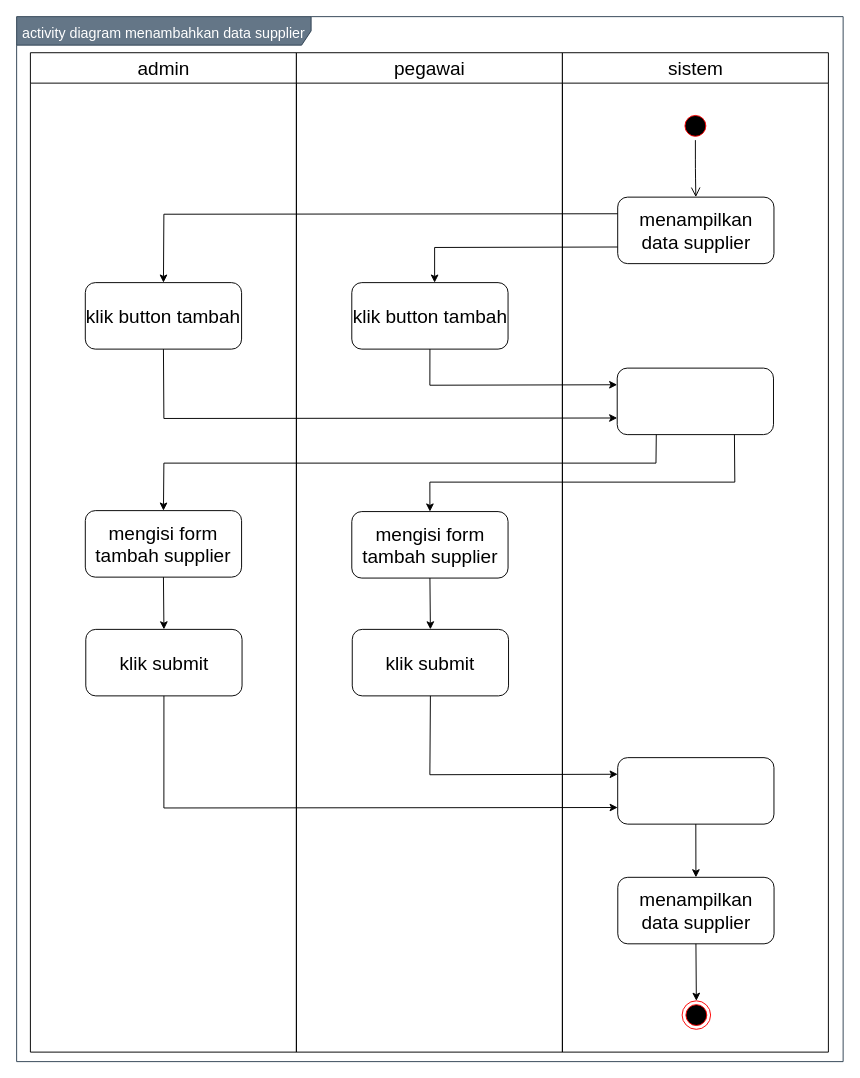
Image size: 860x1078. Some labels were removed from this diagram. The centre of each missing label's shape, as x and y in pixels:
menampilkan form tambah supplier: the point at 694,401
menyimpan ke database: the point at 695,790
